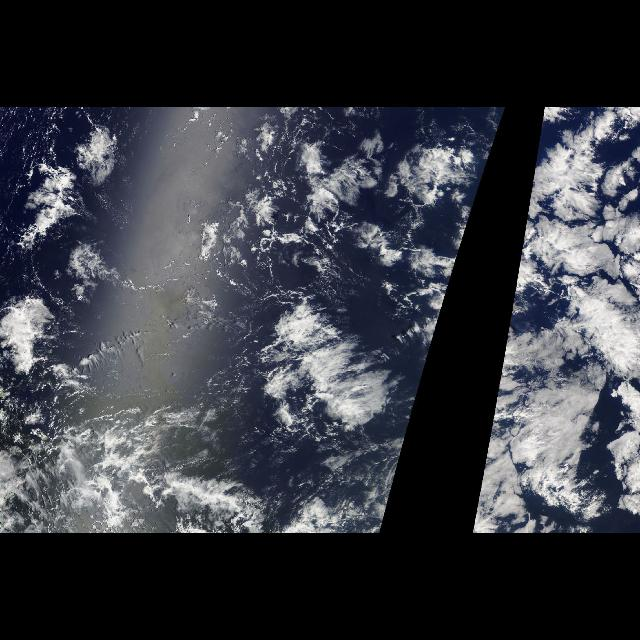Fish: (262, 301, 426, 447)
Flower: (472, 107, 640, 533), (1, 268, 266, 534), (5, 118, 169, 262), (437, 107, 509, 325)
